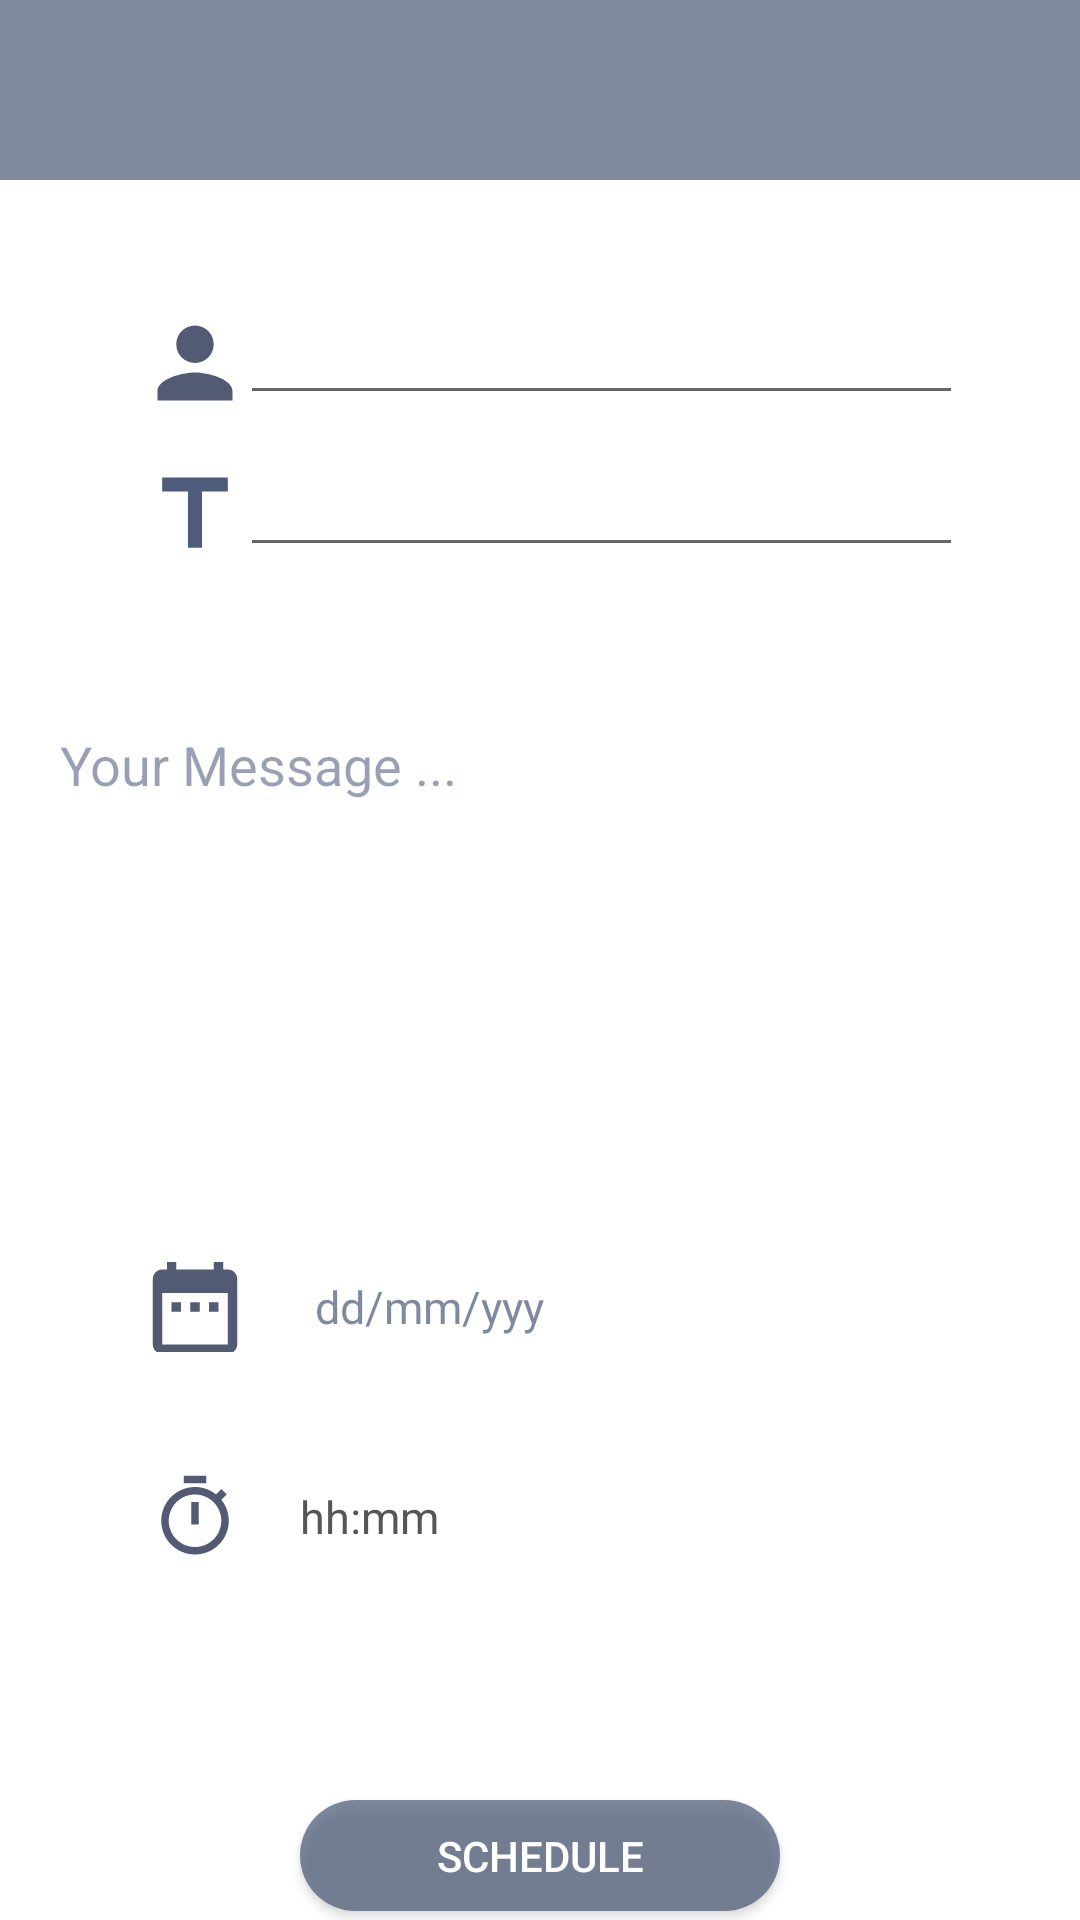

Icons on this 1080 x 1920 Android screen, each with its box as (x1, y1, x2, y2):
date: (152, 1262, 238, 1352)
time: (161, 1475, 229, 1555)
title: (162, 477, 228, 548)
user: (157, 325, 233, 401)
